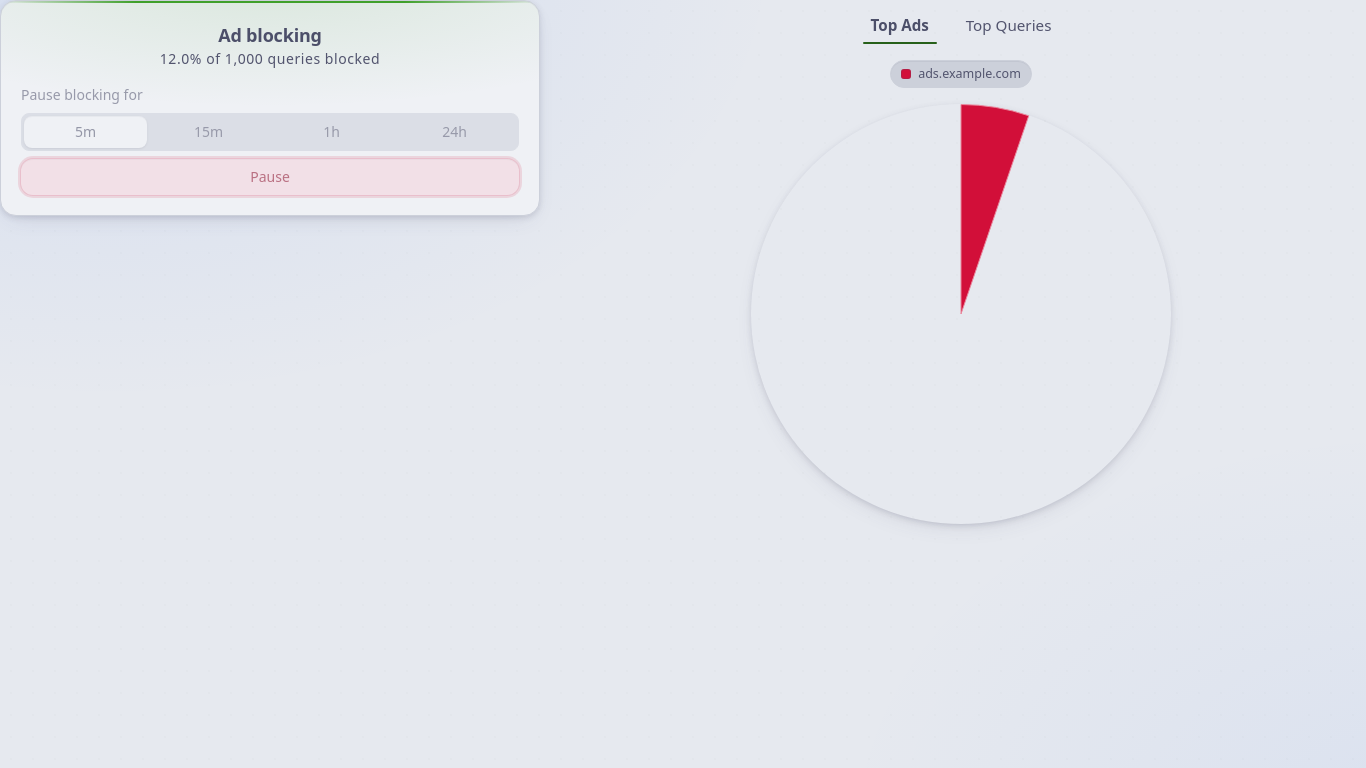
Test case: Home page › pauses blocking with the selected duration
Click the button with test id "pause-btn" at (270, 177), box [21,159,519,195]
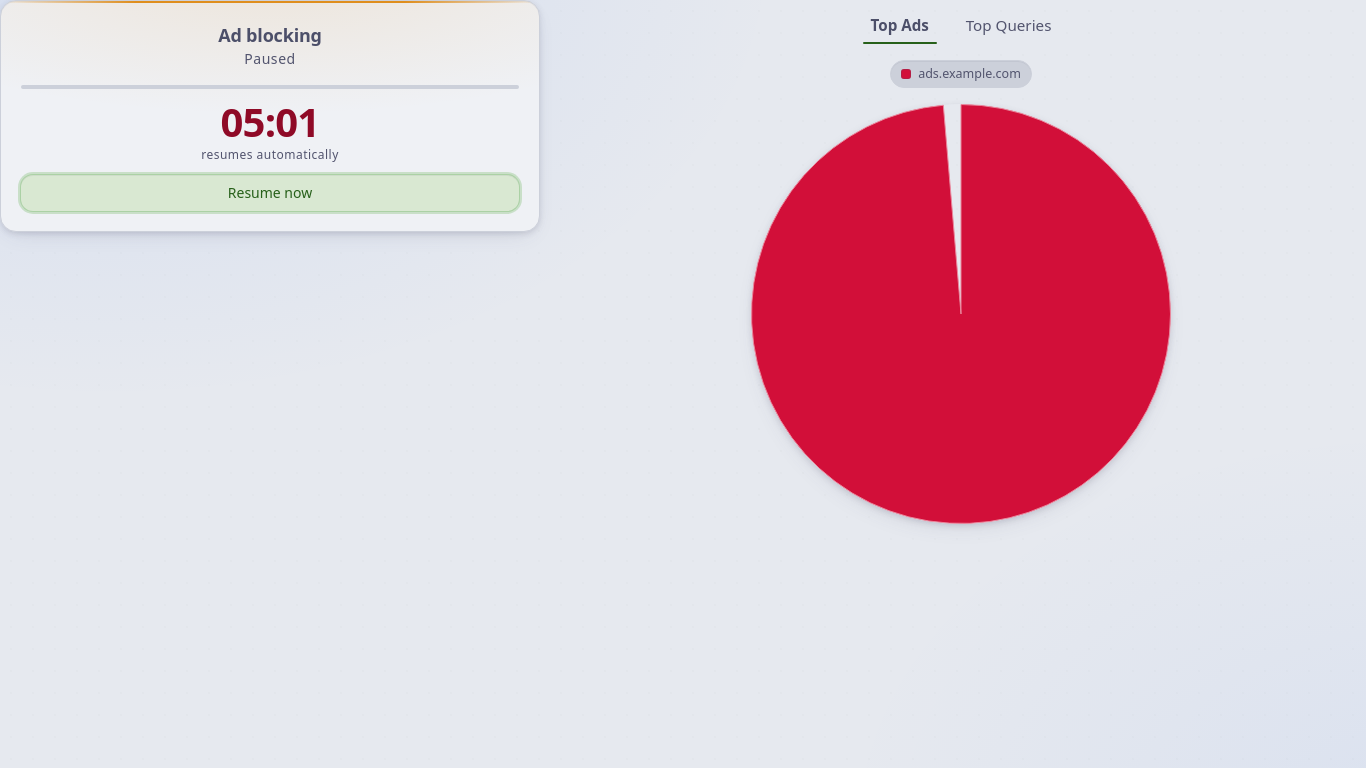
Now the button with test id "resume-btn" is shown, box [21,175,519,211]
